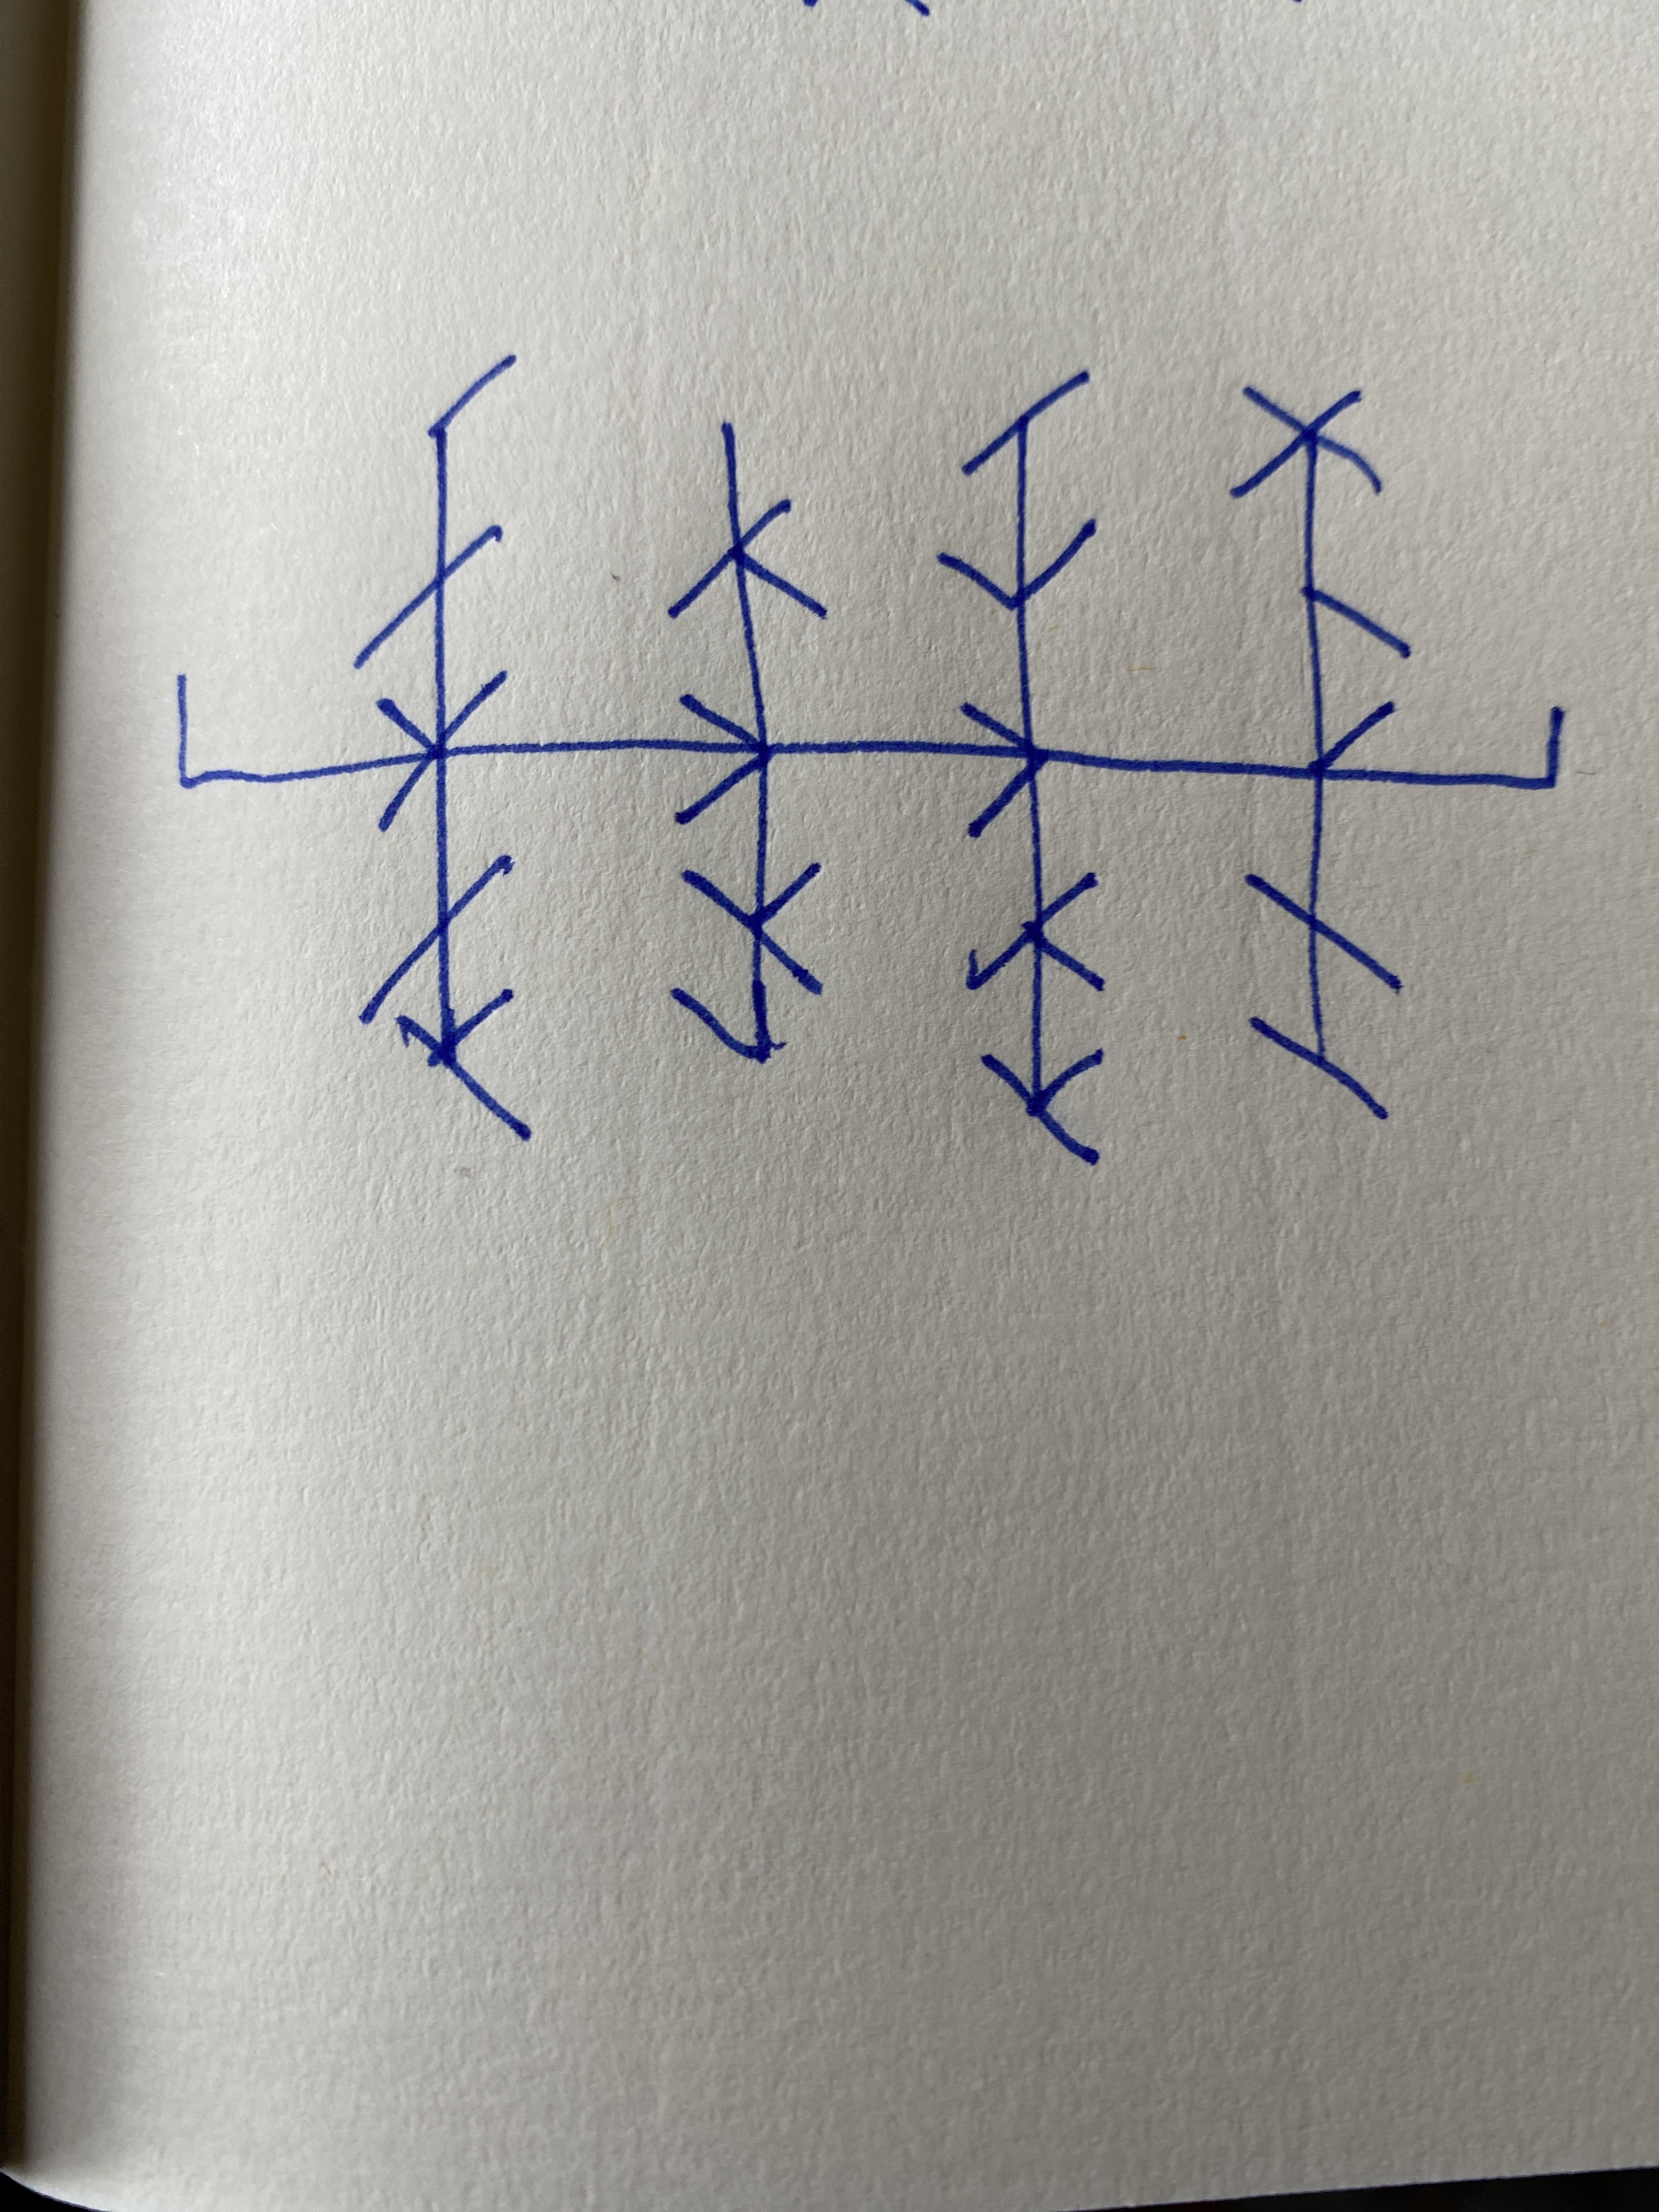Bar: (350, 354, 535, 1141), (938, 371, 1107, 1169), (1229, 387, 1412, 1120), (662, 421, 831, 1068)
Barcode: (173, 354, 1570, 1169)
End: (1392, 702, 1568, 792)
Start: (171, 672, 352, 792)
